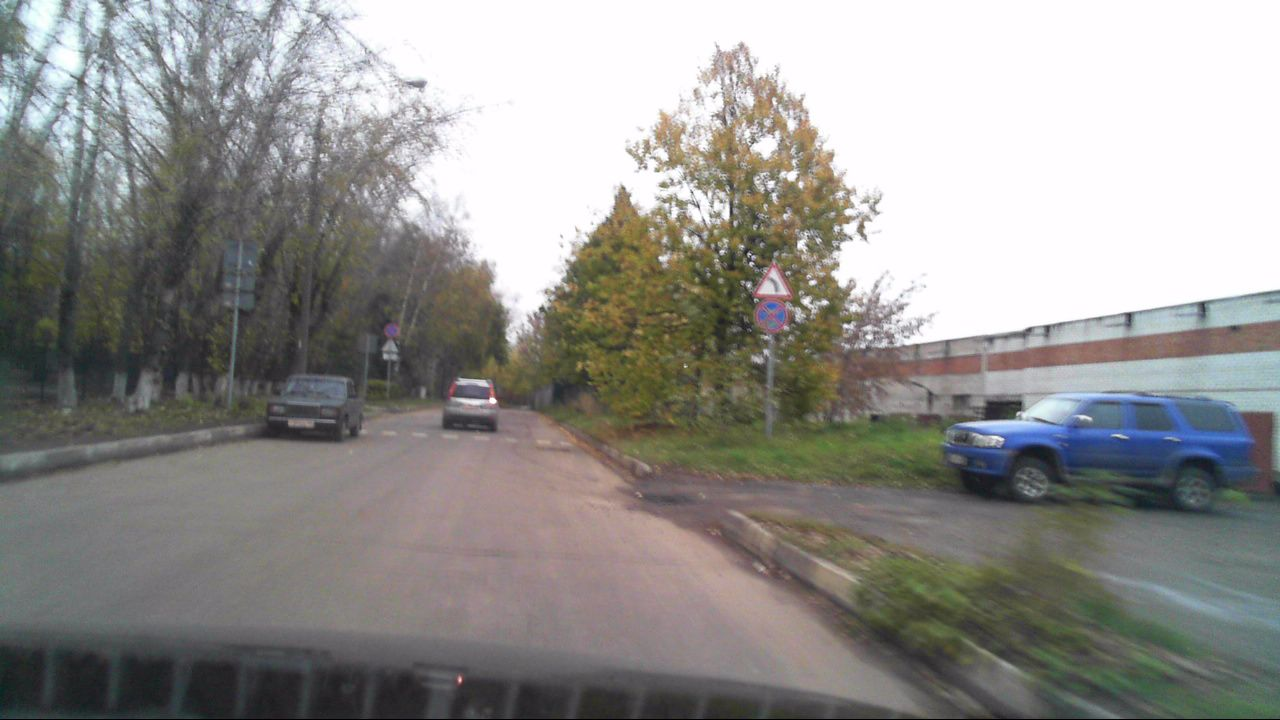No Parking: (753, 300, 788, 332)
